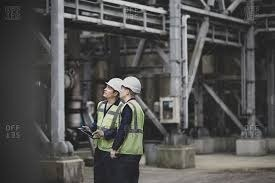helmet: (118, 76, 143, 94), (105, 76, 122, 91)
person with full safety: (117, 76, 146, 181), (93, 75, 121, 179)
safety vest: (120, 99, 143, 154), (94, 103, 118, 149)
